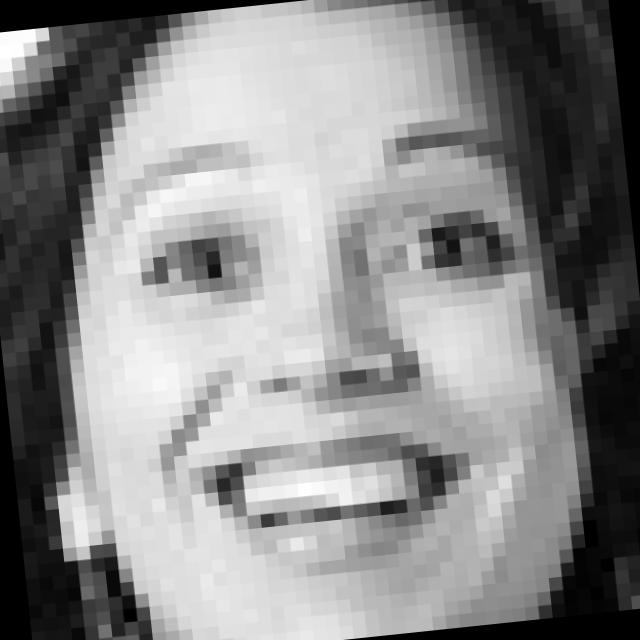happy: (88, 103, 566, 600)
